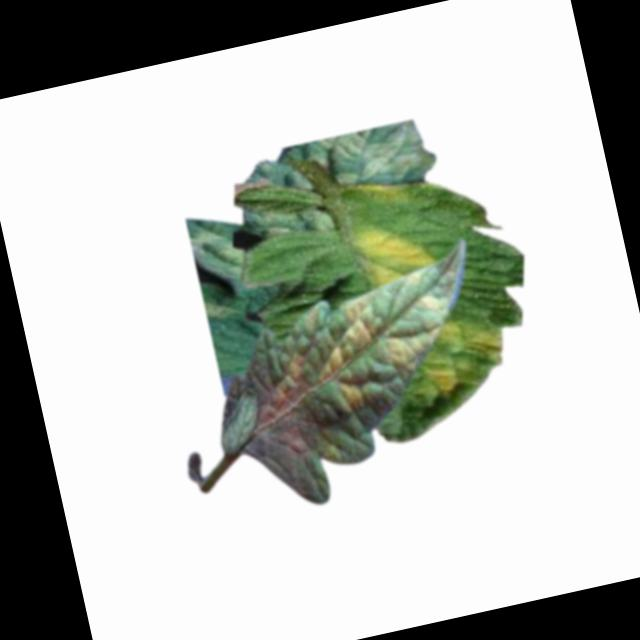Leaf_Mold: (414, 306, 517, 402), (319, 117, 437, 198), (304, 290, 397, 384), (350, 216, 441, 291), (386, 319, 444, 385), (259, 349, 318, 413), (335, 376, 372, 412), (415, 288, 449, 319)
